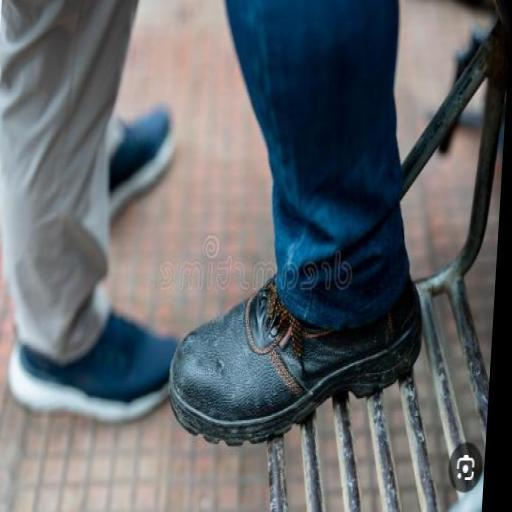safety_boots: (156, 298, 420, 432)
